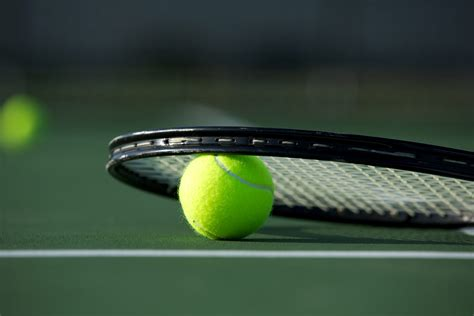tennis_ball: (178, 152, 275, 242)
